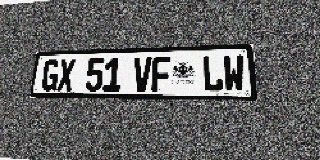1: (103, 58, 122, 91)
5: (85, 58, 105, 91)
F: (151, 56, 171, 92)
G: (41, 59, 60, 91)
L: (202, 55, 223, 92)
V: (133, 57, 152, 92)
W: (223, 54, 245, 92)
X: (57, 59, 76, 91)
